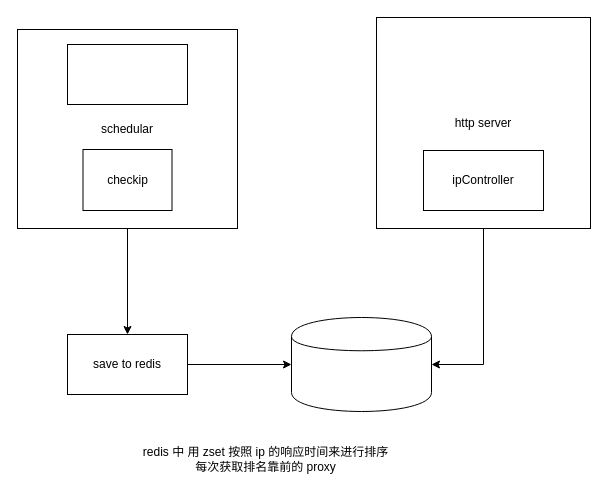
This 608x492 diagram has some shape labels left out. Each missing label, with the box of its shape:
collector: (66, 44, 188, 104)
redis: (290, 316, 432, 412)
